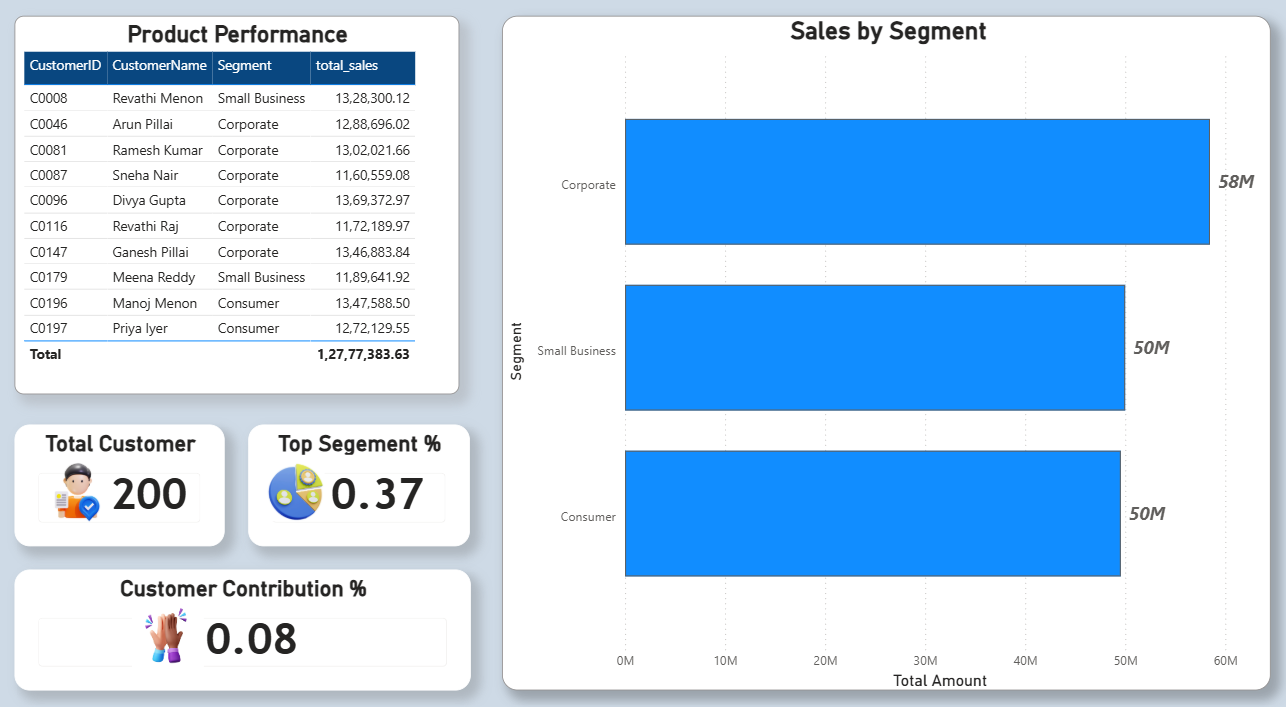

Layout of this report page (visuals, bound fields, positions):
{"tool":"powerbi","page":{"name":"Customer Insight","canvas":[1280,720],"ordinal":3},"visuals":[{"type":"barChart","title":"Sales by Segment","fields":{"Category":["dim_customer.Segment"],"Y":["Sum(fact_sales.SalesAmount)"]},"box":[499.5,23.3,752,660],"z":0},{"type":"tableEx","title":"Product  Performance","fields":{"Values":["dim_customer.CustomerID","dim_customer.CustomerName","dim_customer.Segment","dim_customer.total_sales"]},"box":[22,23.3,435,370.5],"z":1000},{"type":"cardVisual","title":"Total Customer","fields":{"Data":["dim_customer.Total Customer"]},"box":[22,422.6,205.8,119.4],"z":2000},{"type":"image","box":[48,459.7,71.4,59],"z":3000},{"type":"cardVisual","title":"Top Segement %","fields":{"Data":["dim_customer.Top Segment %"]},"box":[251.1,422.6,216.8,119.4],"z":4000},{"type":"image","box":[268,449.3,57.3,80],"z":5000},{"type":"cardVisual","title":" Customer Contribution %","fields":{"Data":["dim_customer.Top 10 Customer Contribution %"]},"box":[21.7,565,446.7,118.3],"z":6000},{"type":"image","box":[134.2,595.8,75,70],"z":7000}]}

Visuals, with their boxes in screenshot pixels (x1, y1, x2, y2), scaled from the page's 1280x720 canvas onto the 1286x707 screenshot:
"Sales by Segment" barChart: box(502, 23, 1257, 671)
"Product  Performance" tableEx: box(22, 23, 459, 387)
"Total Customer" cardVisual: box(22, 415, 229, 532)
image: box(48, 451, 120, 509)
"Top Segement %" cardVisual: box(252, 415, 470, 532)
image: box(269, 441, 327, 520)
" Customer Contribution %" cardVisual: box(22, 555, 471, 671)
image: box(135, 585, 210, 654)
